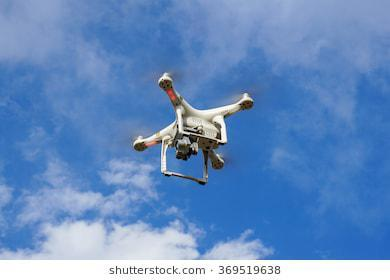drone: (132, 71, 255, 187)
